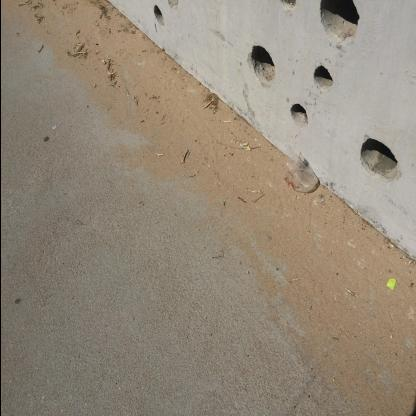plastik: (284, 152, 319, 194)
